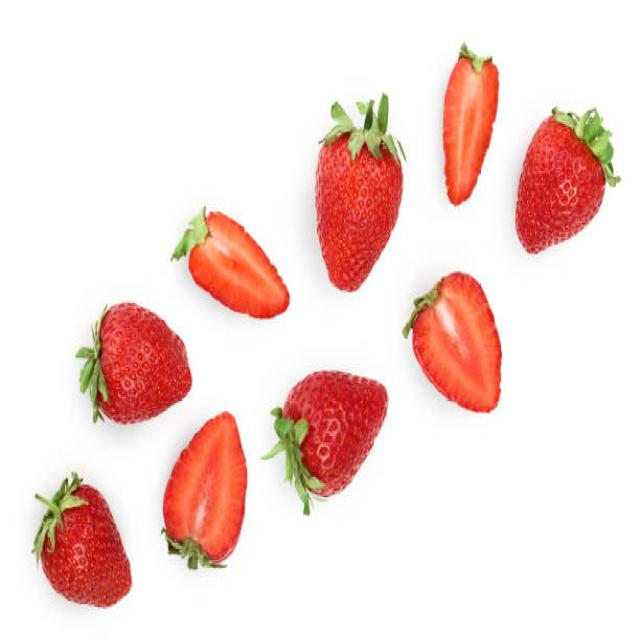Healthy Fruit: (281, 367, 389, 495), (316, 132, 402, 291), (410, 270, 502, 414), (515, 114, 605, 254), (162, 411, 246, 561), (96, 302, 192, 425), (38, 483, 134, 606), (187, 209, 291, 317), (443, 57, 501, 206)
